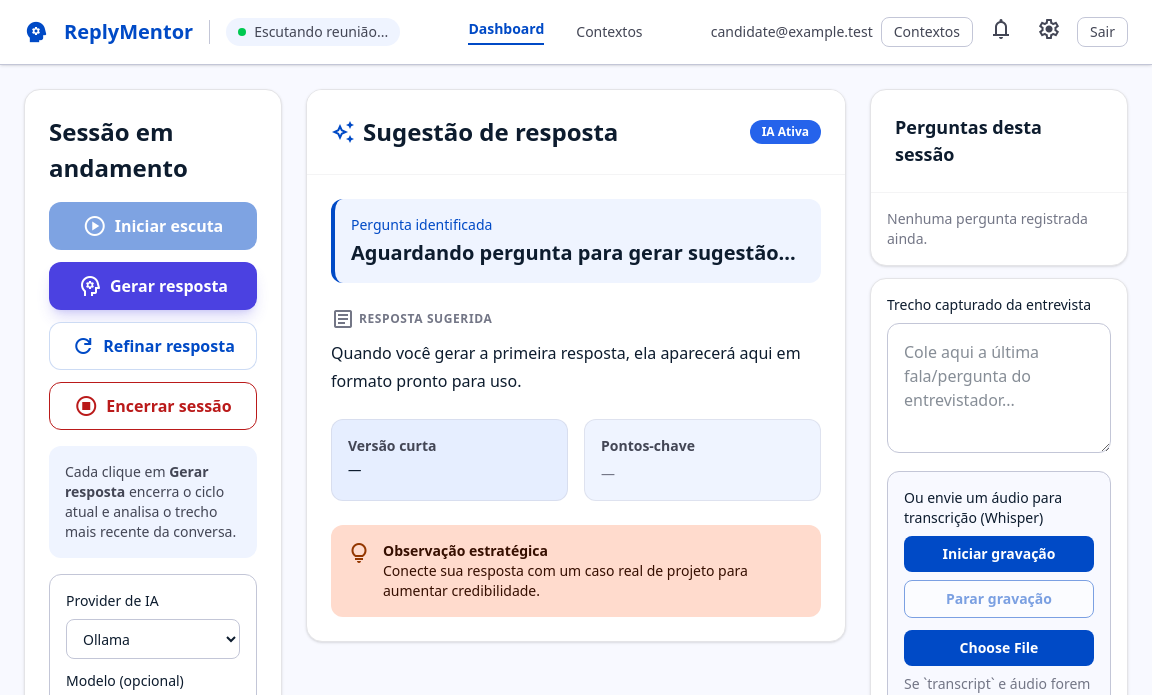
Test: Home interview session › closes the local session when transcript returns SESSION_CLOSED
Expected: the text "candidate@example.test" is shown, [711,22,873,42]
Type "Como você trata concorrência?" into the text box with placeholder "Cole aqui a última fala/pergunta do entrevistador...".
click(999, 388); type("Como você trata concorrência?")  # box [887,323,1111,453]
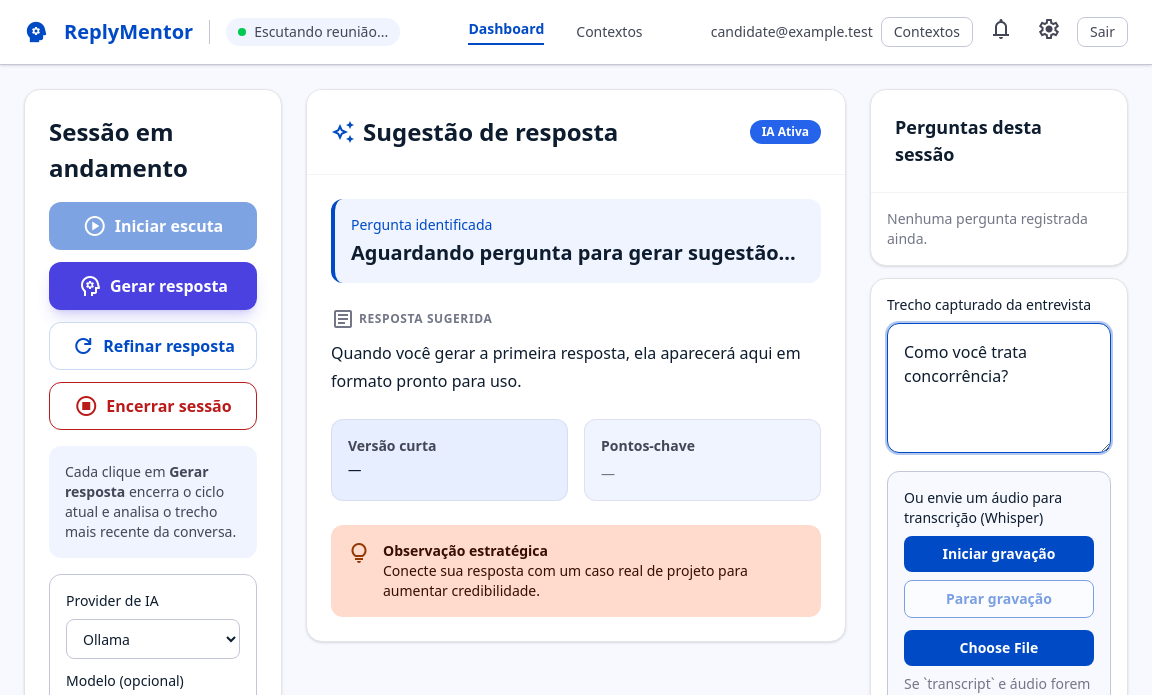
Click the button "Gerar resposta".
click(153, 286)  # box [49,262,257,310]
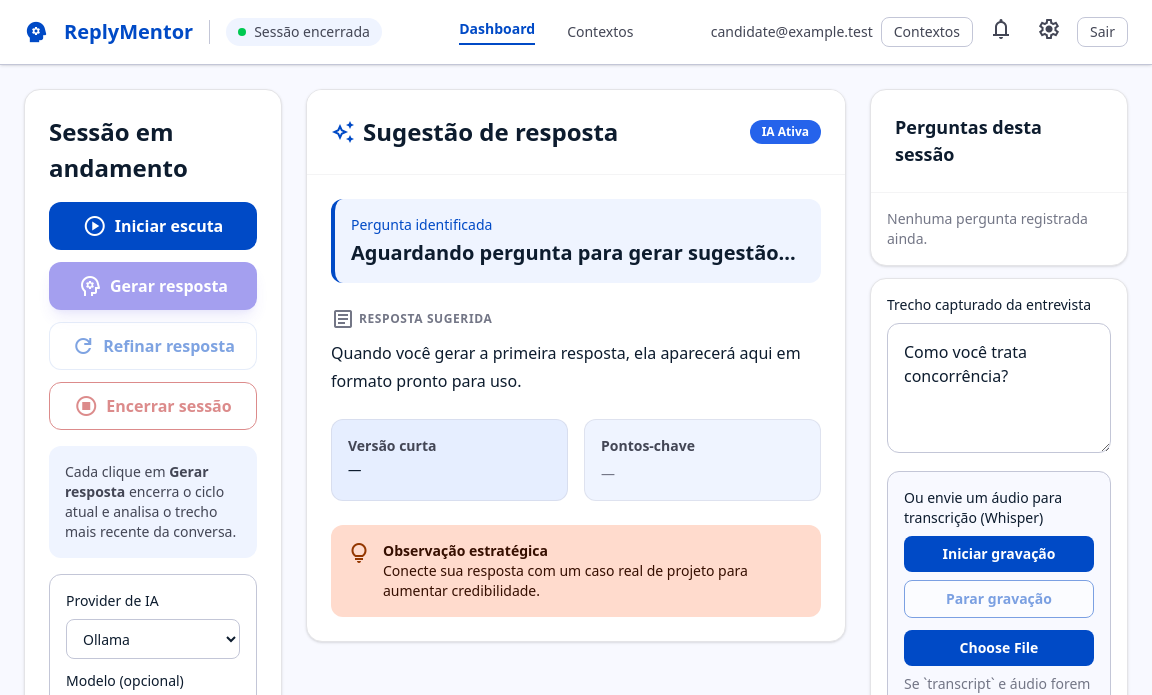
Now the text "Sessão encerrada" is shown, box [254,22,370,42]
Now the button "Gerar resposta" is disabled, box [49,262,257,310]
Now the button "Iniciar escuta" is enabled, box [49,202,257,250]
